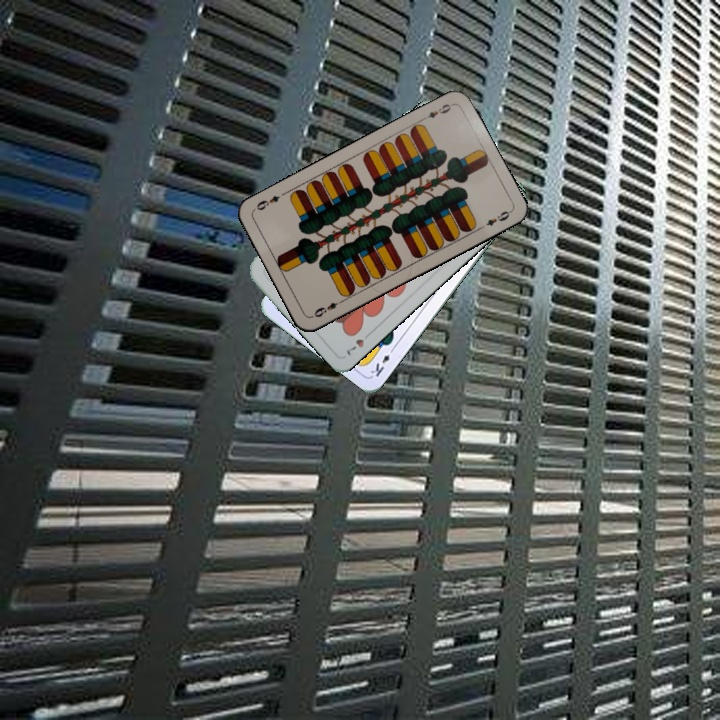E9: (418, 100, 456, 123), (310, 296, 346, 320)
EK: (366, 343, 397, 379)
H7: (343, 328, 375, 358)
